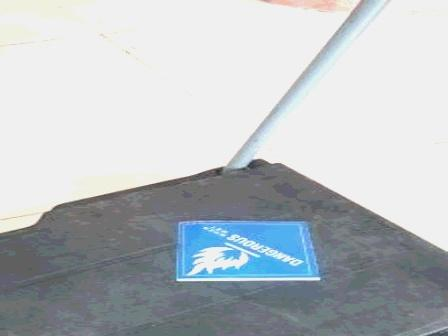dangerous-when-wet: (176, 221, 320, 281)
